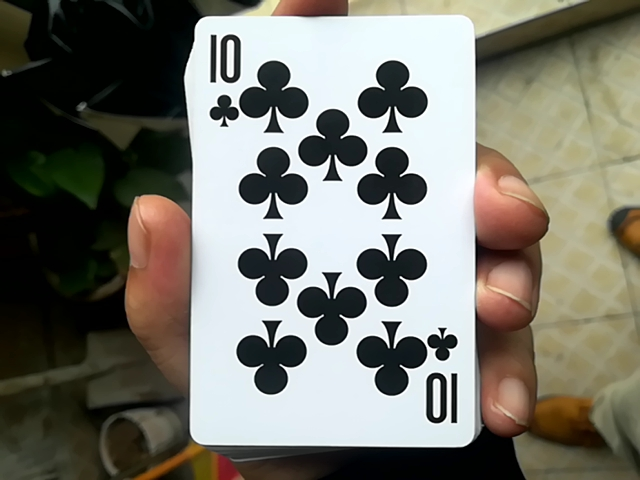mh 10: (179, 4, 475, 435)
